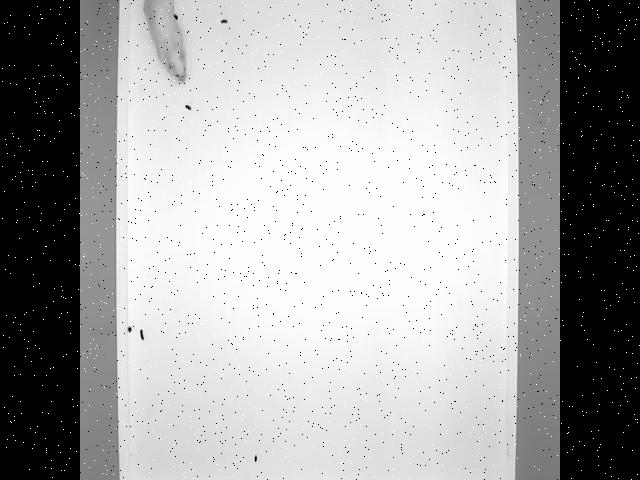Tikus: (142, 0, 191, 84)
